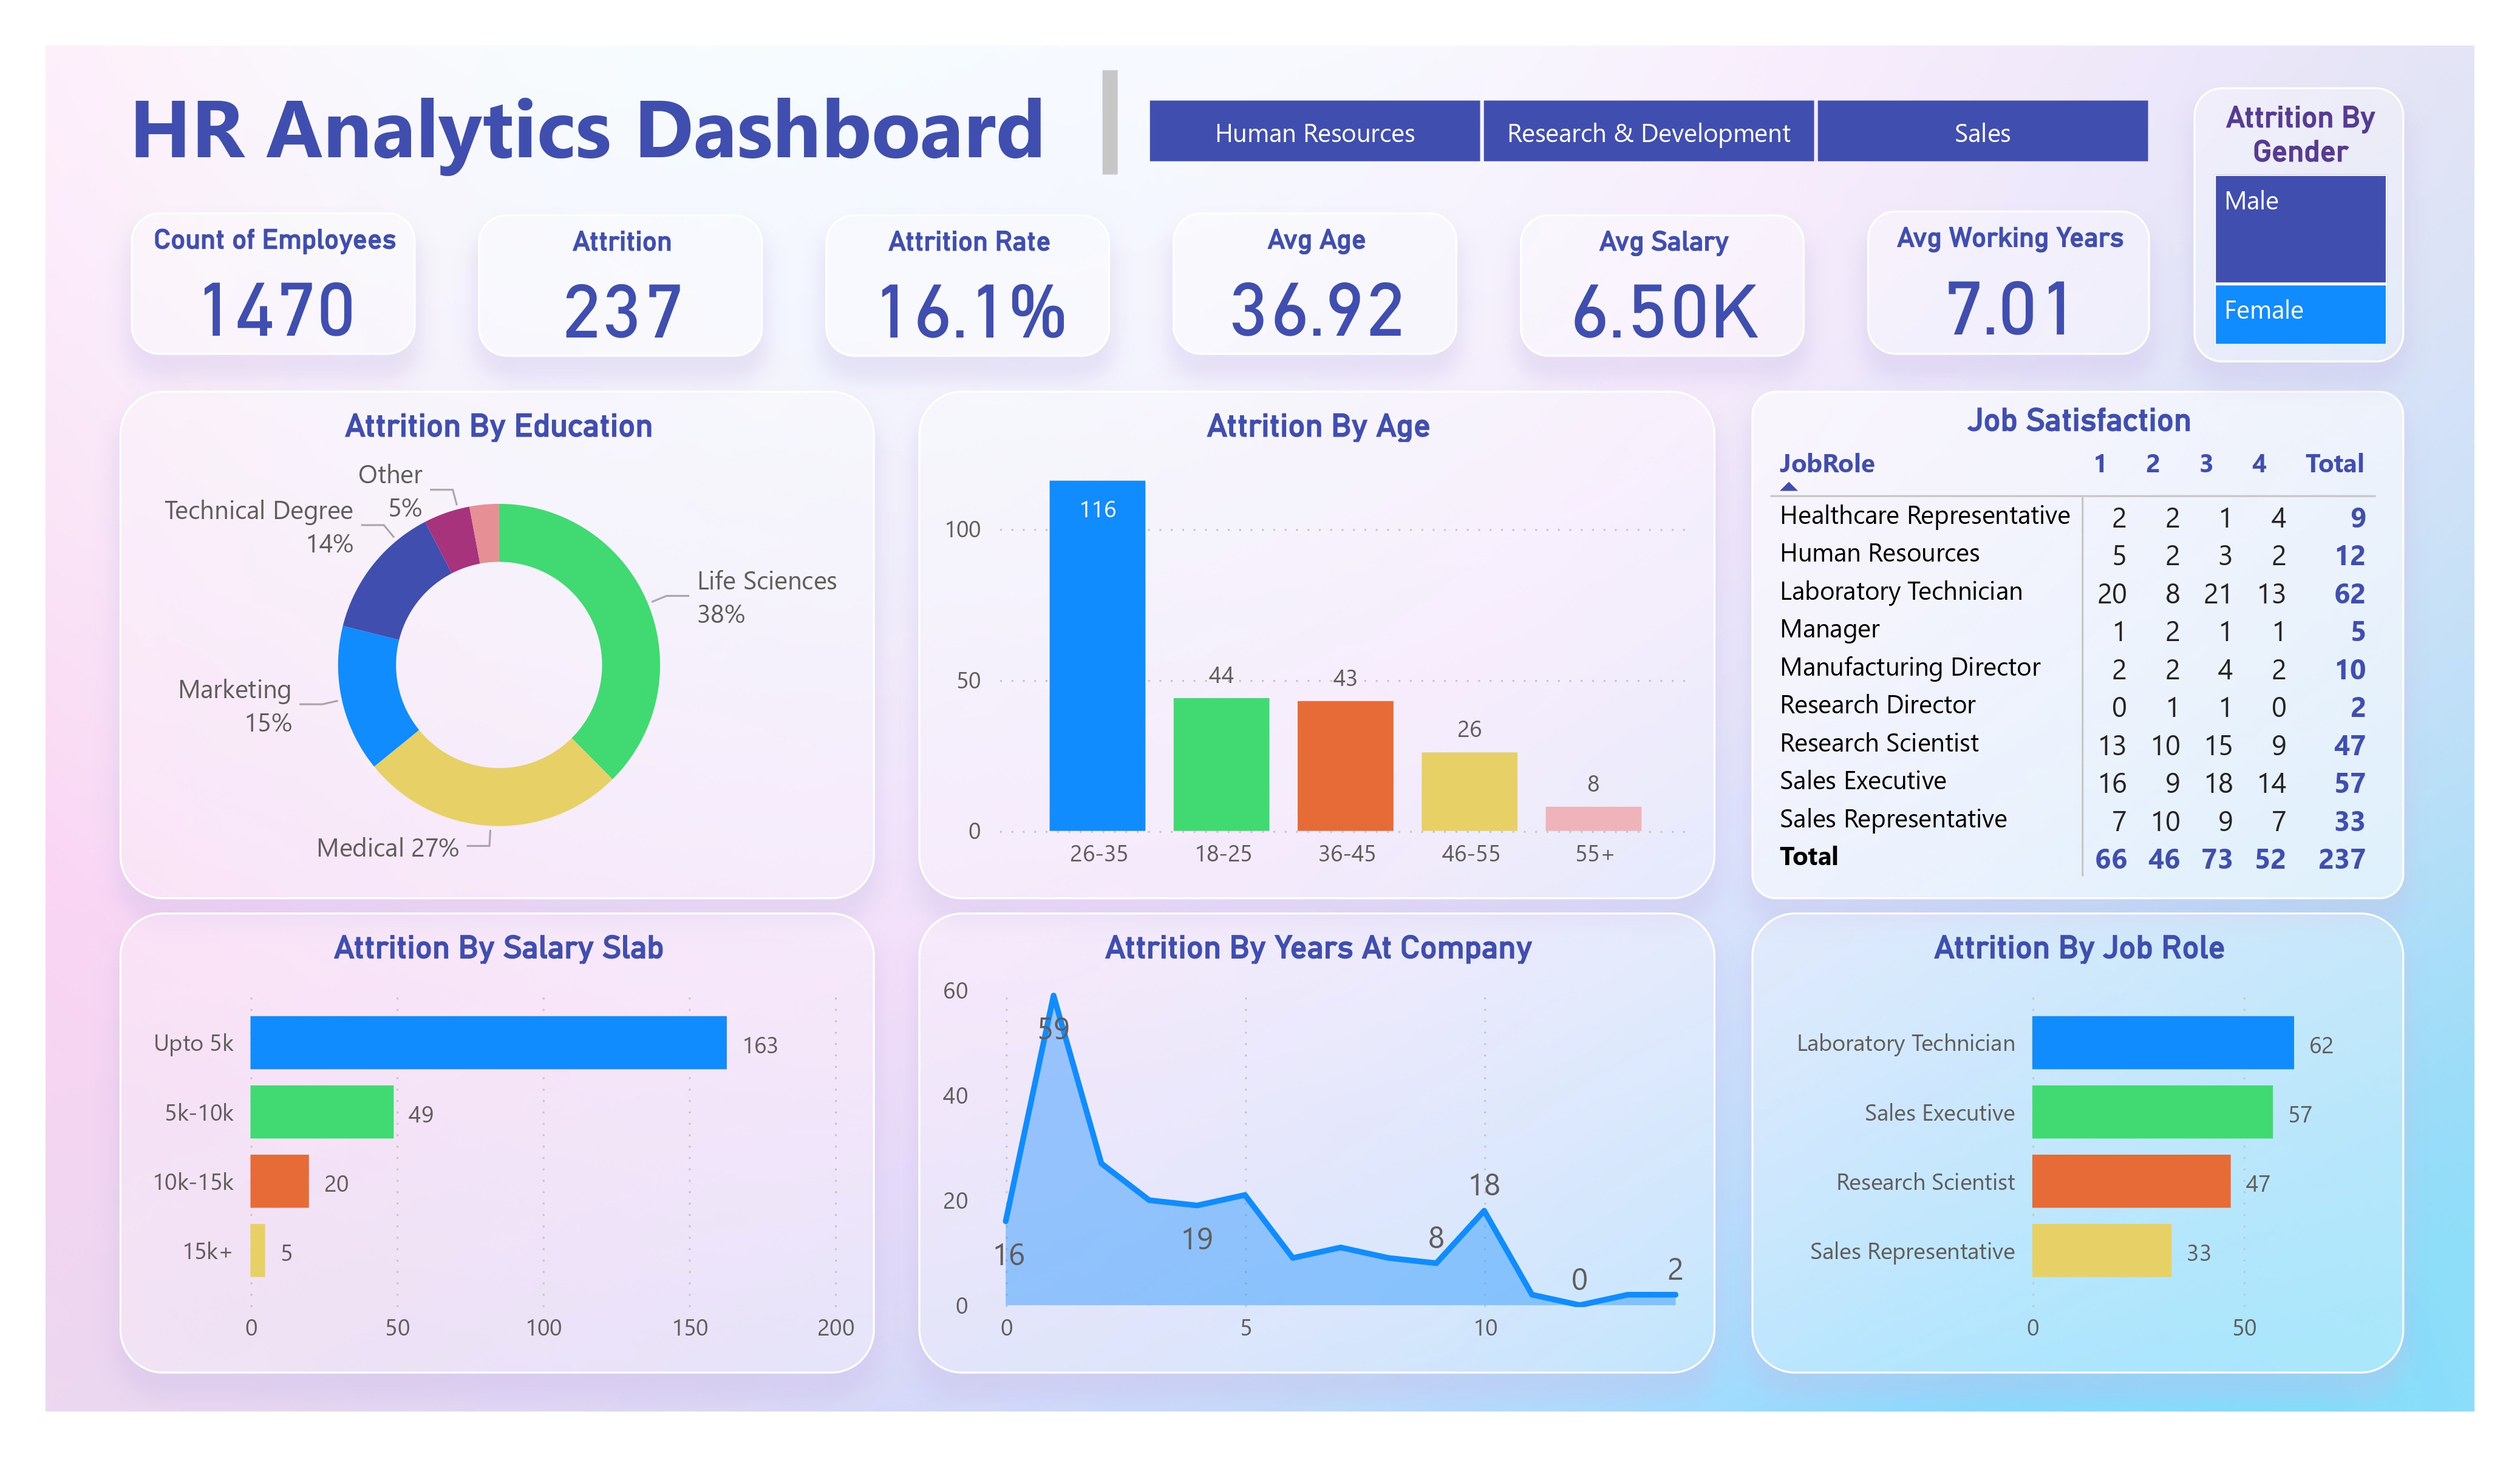

Layout of this report page (visuals, bound fields, positions):
{"tool":"powerbi","page":{"name":"Page 1","canvas":[1280,720],"ordinal":0},"visuals":[{"type":"card","title":"Count of Employees","fields":{"Values":["CountNonNull(HR_Analytics.EmpID)"]},"box":[44.7,87.9,150,75],"z":0},{"type":"card","title":"Attrition","fields":{"Values":["Sum(HR_Analytics.AttritionCount)"]},"box":[227.7,88.9,150,75],"z":1000},{"type":"card","title":"Attrition Rate","fields":{"Values":["HR_Analytics.AttritionRate"]},"box":[410.7,88.9,150,75],"z":2000},{"type":"card","title":"Avg Age","fields":{"Values":["Avg(HR_Analytics.Age)"]},"box":[593.8,87.6,150,75],"z":3000},{"type":"card","title":"Avg Salary","fields":{"Values":["Avg(HR_Analytics.MonthlyIncome)"]},"box":[776.8,88.9,150,75],"z":4000},{"type":"card","title":"Avg Working Years","fields":{"Values":["Avg(HR_Analytics.YearsAtCompany)"]},"box":[959.9,87.4,149.3,75.2],"z":5000},{"type":"donutChart","title":"Attrition By Education","fields":{"Category":["HR_Analytics.EducationField"],"Y":["Sum(HR_Analytics.AttritionCount)"]},"box":[38.8,182,398,268.2],"z":6000},{"type":"columnChart","title":"Attrition By Age","fields":{"Category":["HR_Analytics.AgeGroup"],"Y":["Sum(HR_Analytics.AttritionCount)"]},"box":[459.9,182,419.9,268.2],"z":7000},{"type":"pivotTable","title":"Job Satisfaction","fields":{"Rows":["HR_Analytics.JobRole"],"Columns":["HR_Analytics.JobSatisfaction"],"Values":["Sum(HR_Analytics.AttritionCount)"]},"box":[899.2,182,343.4,268.2],"z":8000},{"type":"barChart","title":"Attrition By Salary Slab","fields":{"Category":["HR_Analytics.SalarySlab"],"Y":["Sum(HR_Analytics.AttritionCount)"]},"box":[38.8,457.5,398,242.7],"z":9000},{"type":"barChart","title":"Attrition By Job Role","fields":{"Y":["Sum(HR_Analytics.AttritionCount)"],"Category":["HR_Analytics.JobRole"]},"box":[899.2,457.5,343.4,242.7],"z":10000},{"type":"areaChart","title":"Attrition By Years At Company","fields":{"Category":["HR_Analytics.YearsAtCompany"],"Y":["Sum(HR_Analytics.AttritionCount)"]},"box":[459.9,457.5,419.9,242.7],"z":11000},{"type":"treemap","title":"Attrition By Gender","fields":{"Group":["HR_Analytics.Gender"],"Values":["Sum(HR_Analytics.AttritionCount)"]},"box":[1132.2,21.8,110.4,145.6],"z":12000},{"type":"slicer","fields":{"Values":["HR_Analytics.Department"]},"box":[555.8,21.8,576.4,46.1],"z":13000},{"type":"textbox","box":[38.8,7.5,531.5,74],"z":14000}]}

Visuals, with their boxes on the page's 1280x720 design canvas (x1, y1, x2, y2). These are canvas units, not pixel positions in the 2520x1457 screenshot, which may show the page scaled, cropped or inside an application window:
"Count of Employees" card: 45, 88, 195, 163
"Attrition" card: 228, 89, 378, 164
"Attrition Rate" card: 411, 89, 561, 164
"Avg Age" card: 594, 88, 744, 163
"Avg Salary" card: 777, 89, 927, 164
"Avg Working Years" card: 960, 87, 1109, 163
"Attrition By Education" donutChart: 39, 182, 437, 450
"Attrition By Age" columnChart: 460, 182, 880, 450
"Job Satisfaction" pivotTable: 899, 182, 1243, 450
"Attrition By Salary Slab" barChart: 39, 458, 437, 700
"Attrition By Job Role" barChart: 899, 458, 1243, 700
"Attrition By Years At Company" areaChart: 460, 458, 880, 700
"Attrition By Gender" treemap: 1132, 22, 1243, 167
slicer - HR_Analytics.Department: 556, 22, 1132, 68
textbox: 39, 8, 570, 82
